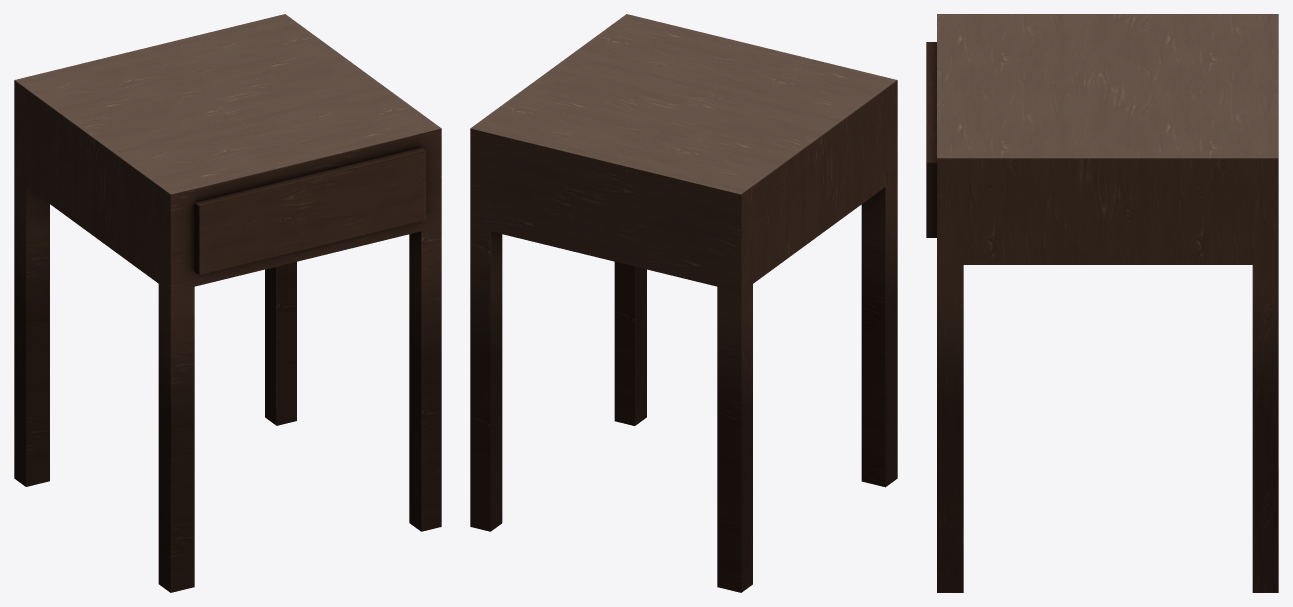
File: AslanHouse_Table.fbx
3 renders of one model, left to right at view 1: azimuth 30°, elevation 25°; view 2: azimuth 150°, elevation 25°; view 3: azimuth 270°, elevation 25°, orthographic. The views are drawn at different scales.
Visible parts, largest first — view 1: SmallTable; view 2: SmallTable; view 3: SmallTable.
Boxes of the visible parts, x1,y1,x2,y2 form: SmallTable: (14, 14, 441, 592); SmallTable: (470, 14, 897, 592); SmallTable: (926, 14, 1278, 592).
Size of the model in its own units: 80.92 by 114 by 83.45.
Materials: 1 (1 with a texture image).
